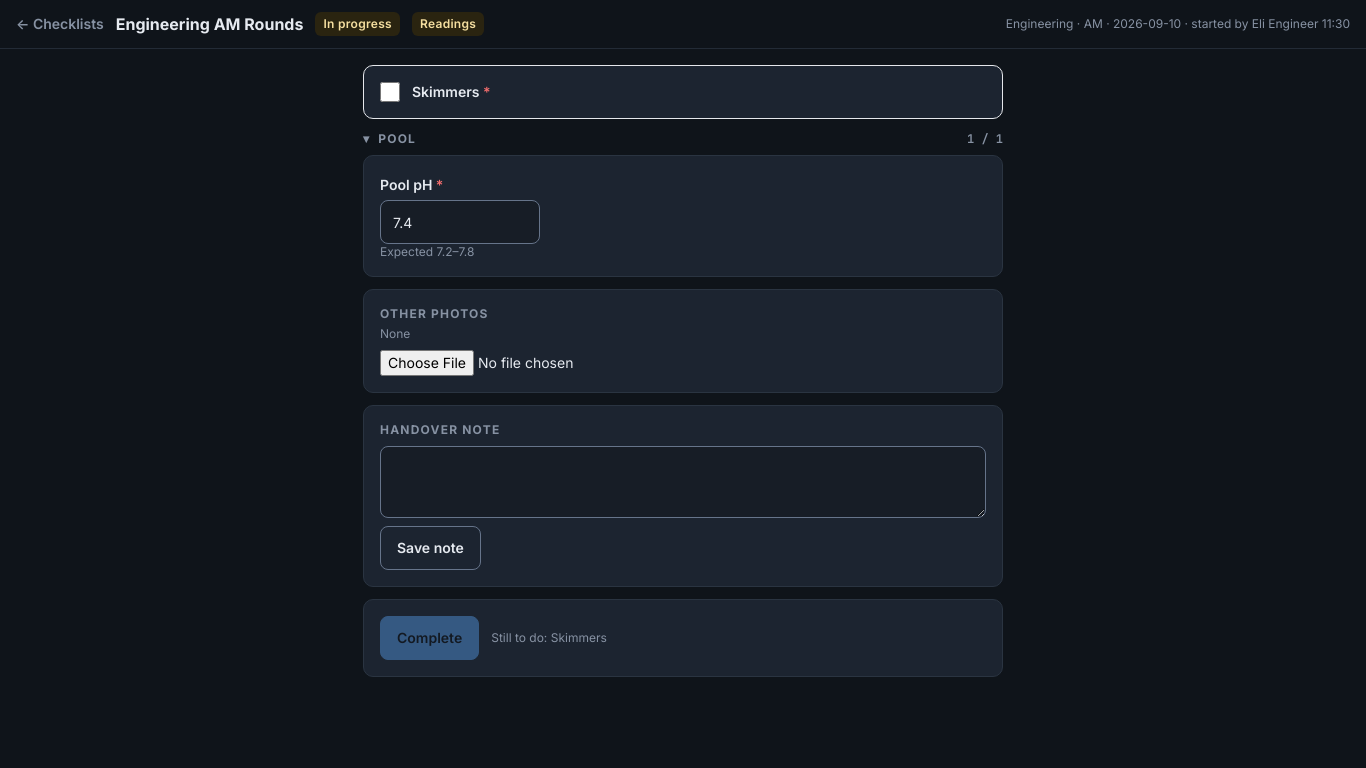
ChecklistRunPage › groups items under collapsible category headings with progress, ungrouped first
This screenshot has width=1366, height=768.
Expected: the text "1 / 1" is shown, x1=967 y1=131 x2=1003 y2=147
Expected: the text "Pool pH *" is shown, x1=380 y1=176 x2=443 y2=193
Step 1. Click the button with aria-label "Pool, 1 of 1 done" → (397, 138), box x1=363 y1=131 x2=1003 y2=147
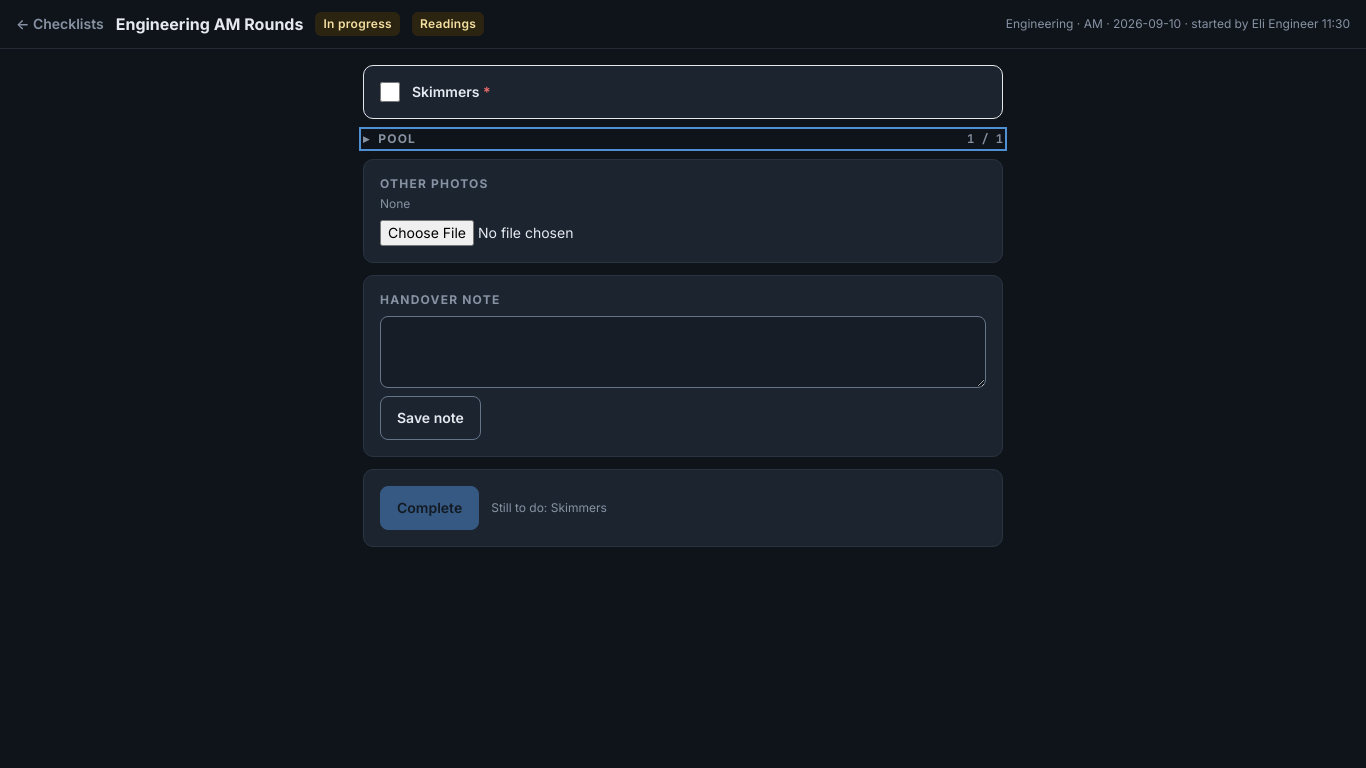
Expected: the button with aria-label "Pool, 1 of 1 done" is collapsed
Expected: the text "Pool pH" is gone
Step 2. Click the button with aria-label "Pool, 1 of 1 done" → (397, 138), box x1=363 y1=131 x2=1003 y2=147
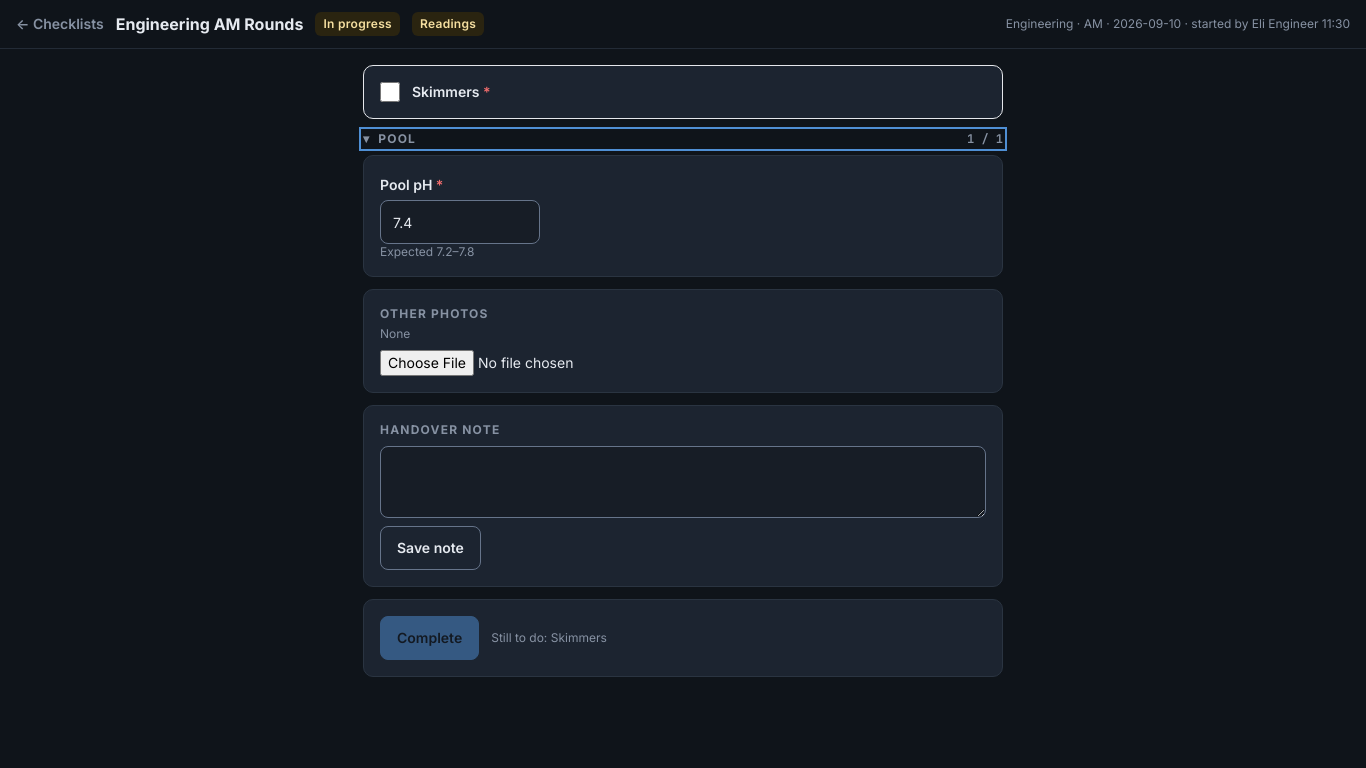
Expected: the text "Pool pH *" is shown, x1=380 y1=176 x2=443 y2=193
